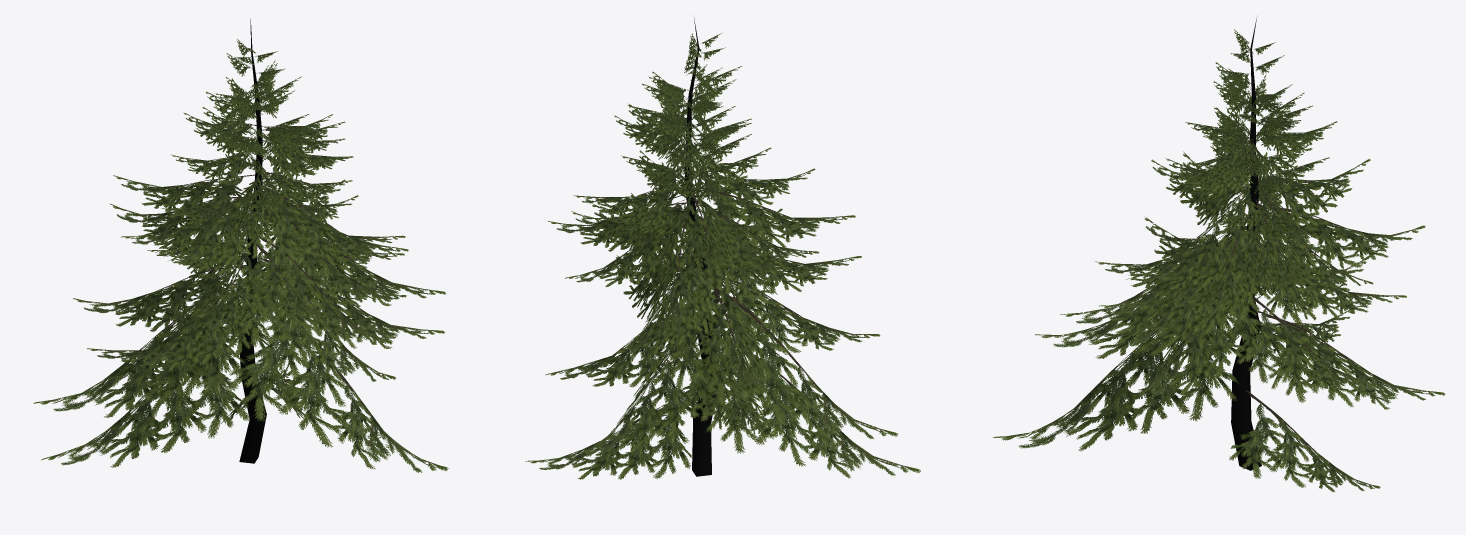
Rendered from spruce2 lod0.FBX.
3 views of the same model, side by side, from view 1: azimuth 30°, elevation 25°; view 2: azimuth 150°, elevation 25°; view 3: azimuth 270°, elevation 25° (orthographic). The views are drawn at different scales.
Parts seen in each view (by area): view 1: spruce2; view 2: spruce2; view 3: spruce2.
Boxes of the visible parts, <box> form: spruce2: <box>33,19,448,472</box>; spruce2: <box>525,18,920,479</box>; spruce2: <box>993,17,1445,492</box>.
Bounding box in the file's own units: 83955 × 96525 × 92284.
